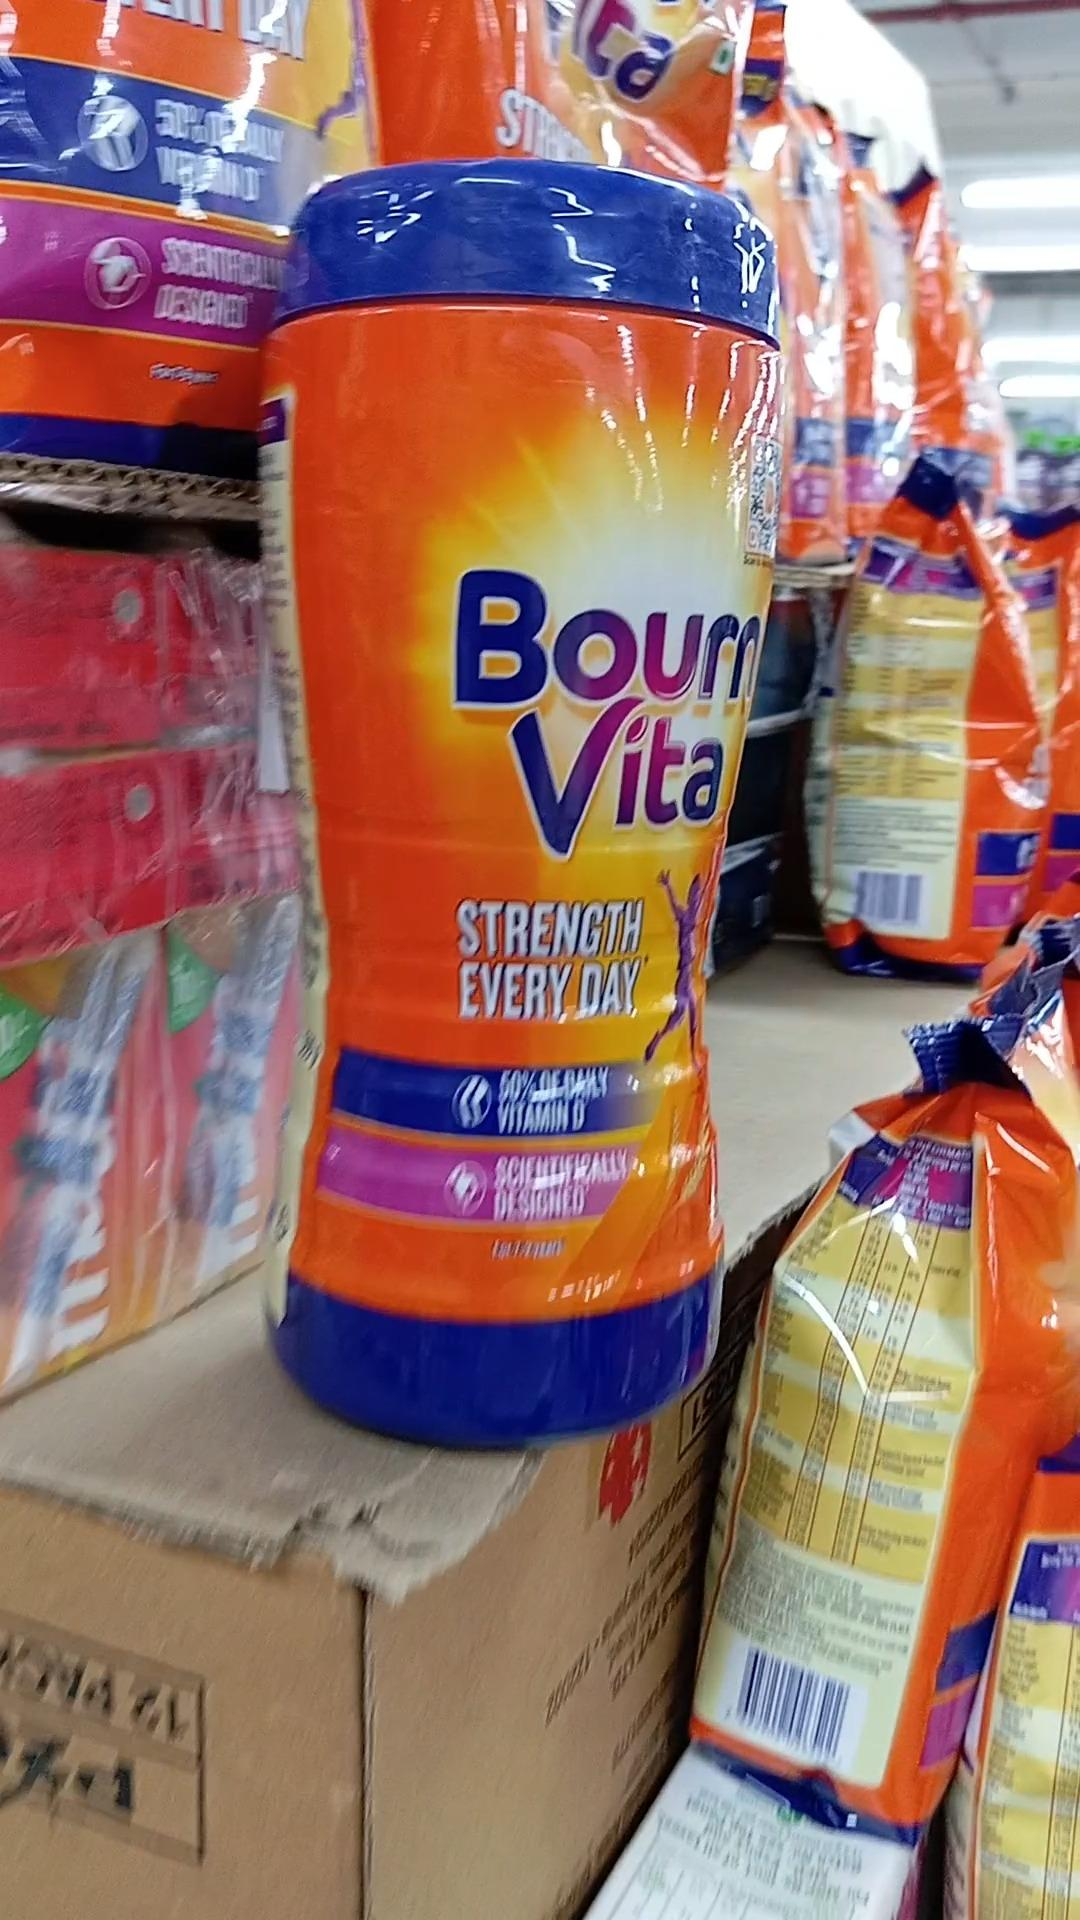BOURN_VITA_500_G_JAR: (270, 120, 735, 1460)
